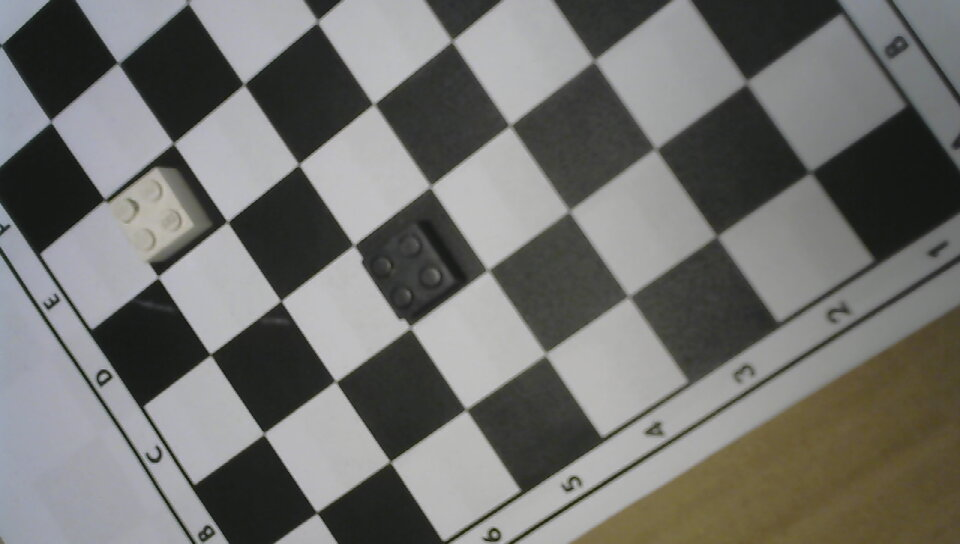bp: (356, 214, 463, 324)
